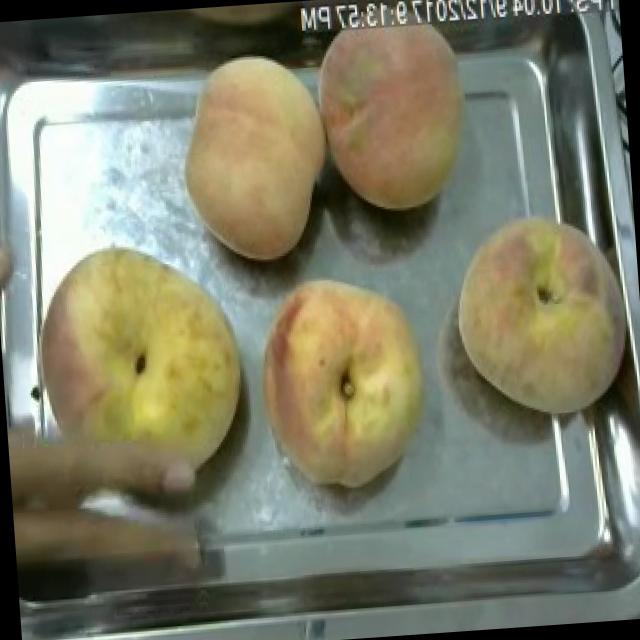Fruit: (16, 226, 261, 524), (241, 264, 444, 502), (440, 194, 638, 427), (300, 0, 485, 225), (165, 38, 340, 274)
